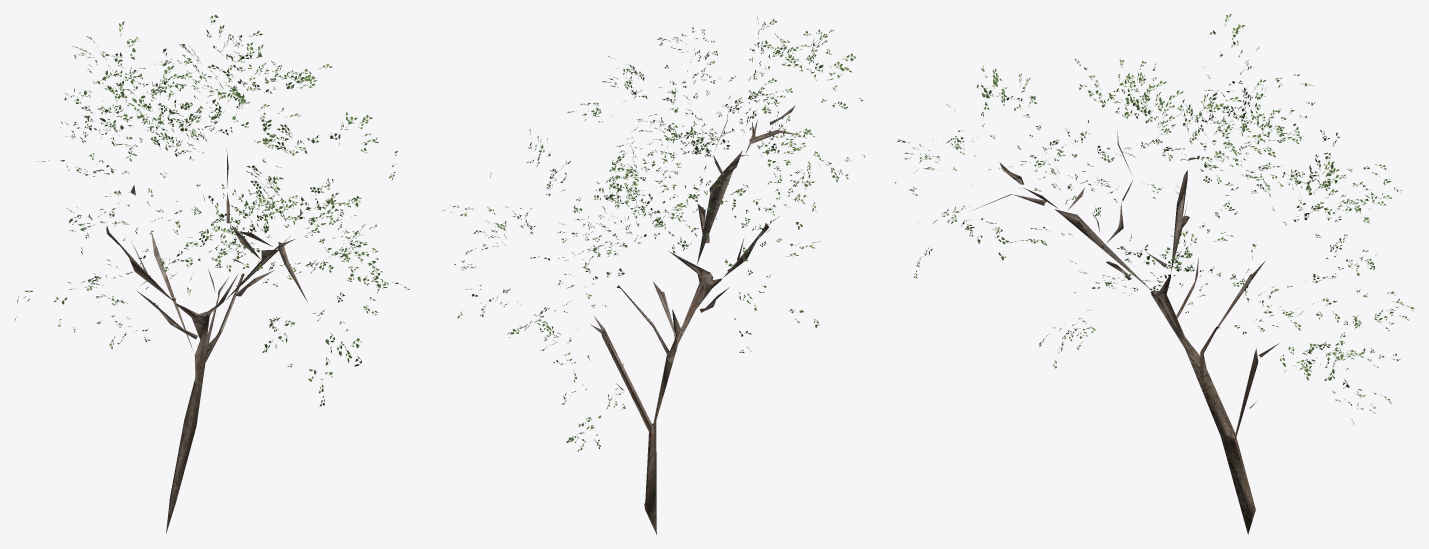
File: tree_small_02.glb
3 renders of one model, left to right at view 1: azimuth 30°, elevation 25°; view 2: azimuth 150°, elevation 25°; view 3: azimuth 270°, elevation 25°, orthographic. The views are drawn at different scales.
Visible parts, largest first — view 1: tree_small_02_LOD0; view 2: tree_small_02_LOD0; view 3: tree_small_02_LOD0.
Part boxes in pixels (left/top/right/bottom): tree_small_02_LOD0: left=14, top=15, right=409, bottom=533; tree_small_02_LOD0: left=441, top=16, right=865, bottom=534; tree_small_02_LOD0: left=894, top=14, right=1413, bottom=534.
Bounding box in the file's own units: 2.84 × 4.06 × 4.04.
Materials: 3 (3 with a texture image).
